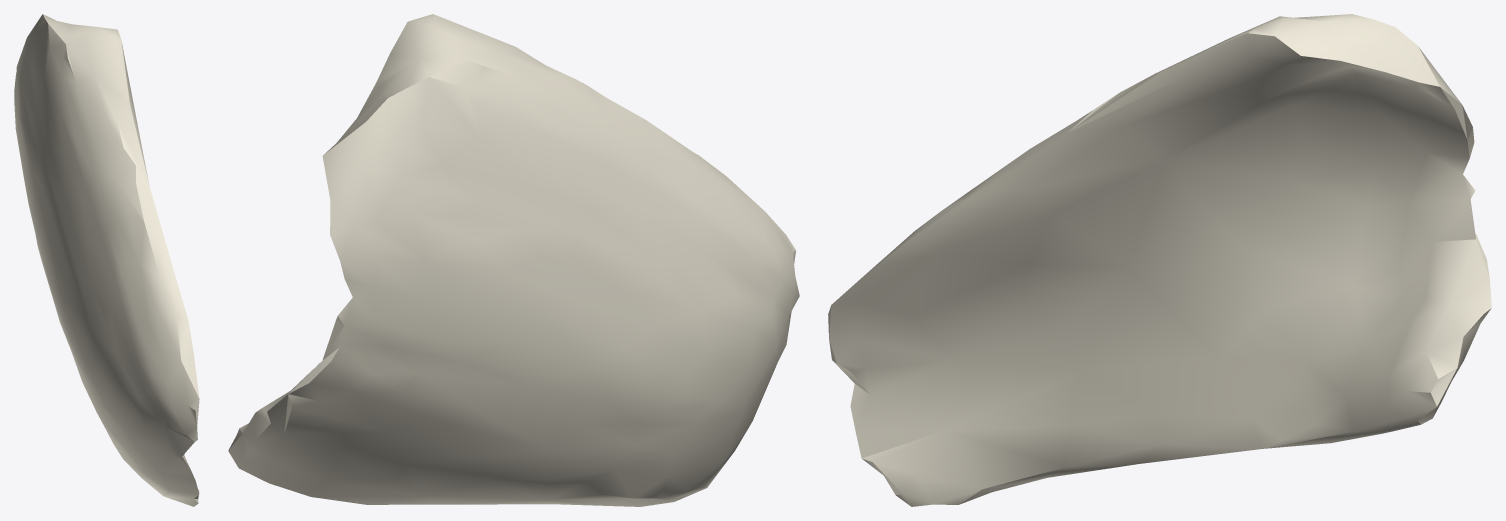
The model's file is fma326797-r_mm1455m.glb.
3 renders of one model, left to right at view 1: azimuth 30°, elevation 25°; view 2: azimuth 150°, elevation 25°; view 3: azimuth 270°, elevation 25°, orthographic. The views are drawn at different scales.
Parts seen in each view (by area): view 1: FMA326797-R_MM1455M; view 2: FMA326797-R_MM1455M; view 3: FMA326797-R_MM1455M.
Part boxes in pixels (x1,y1,x2,y2): FMA326797-R_MM1455M: (14,14,199,506); FMA326797-R_MM1455M: (228,14,799,506); FMA326797-R_MM1455M: (828,14,1491,506).
Bounding box in the file's own units: 0.00276 × 0.00602 × 0.00705.
